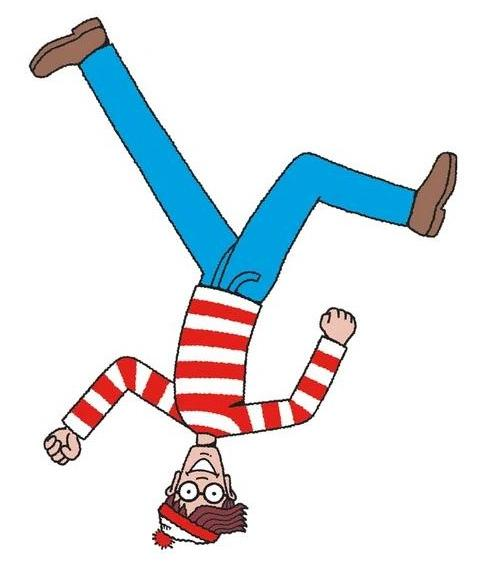waldos: (26, 17, 459, 549)
